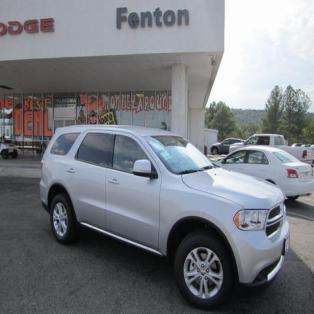Auto: (38, 124, 292, 311)
